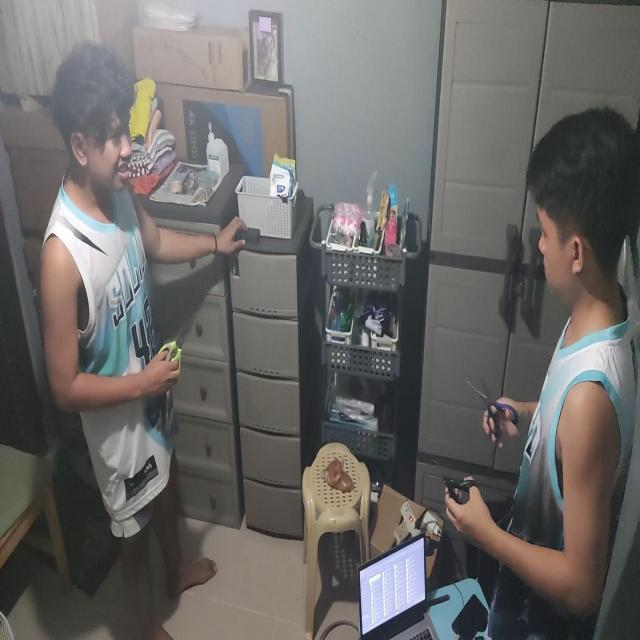scissor: (466, 369, 519, 446), (424, 459, 480, 508), (159, 315, 196, 372)
